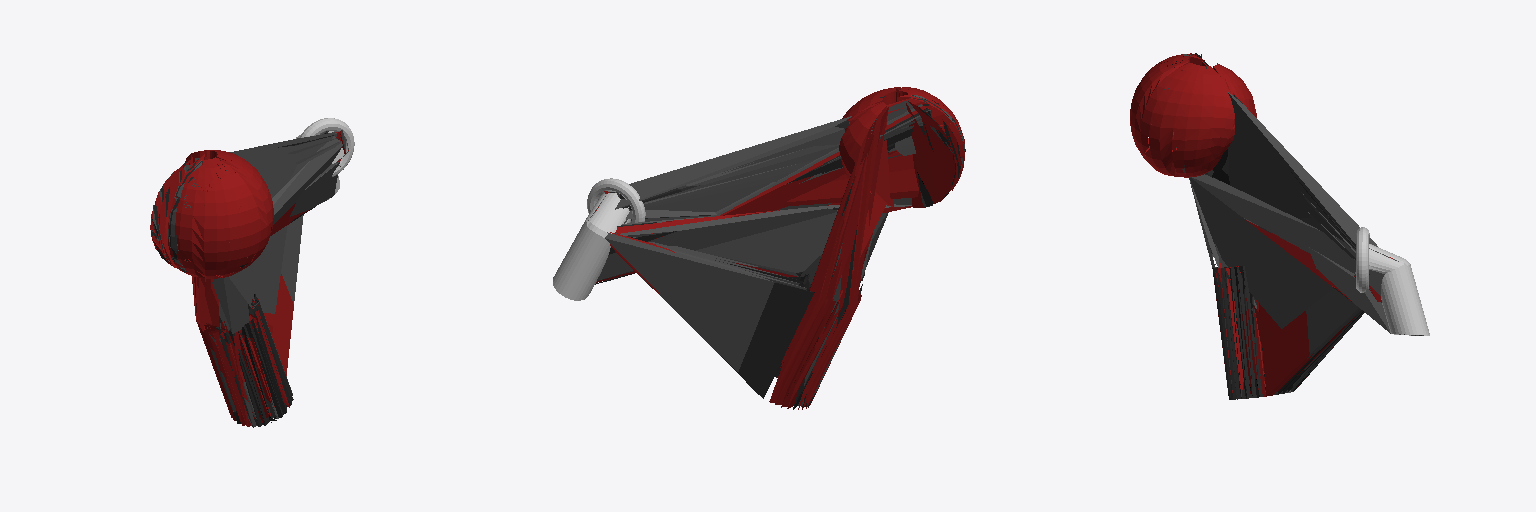
3 renders of one model, left to right at view 1: azimuth 30°, elevation 25°; view 2: azimuth 150°, elevation 25°; view 3: azimuth 270°, elevation 25°, orthographic.
Parts seen in each view (by area): view 1: 右腕power_円柱.010, 左肩_トーラス.002; view 2: 右腕power_円柱.010, 左腕_円柱.015, 左肩_トーラス.002; view 3: 右腕power_円柱.010, 左腕_円柱.015, 左肩_トーラス.002.
Boxes of the visible parts, box(x1,y1,x2,y2) form: 右腕power_円柱.010: box(150, 130, 348, 427); 左肩_トーラス.002: box(300, 118, 354, 176); 右腕power_円柱.010: box(588, 87, 965, 409); 左腕_円柱.015: box(553, 193, 630, 300); 左肩_トーラス.002: box(587, 178, 645, 222); 右腕power_円柱.010: box(1130, 53, 1423, 399); 左腕_円柱.015: box(1355, 244, 1429, 335); 左肩_トーラス.002: box(1356, 227, 1369, 292).
Size of the model in its own units: 20.51 by 20.35 by 18.17.
Materials: 2 (1 with a texture image).